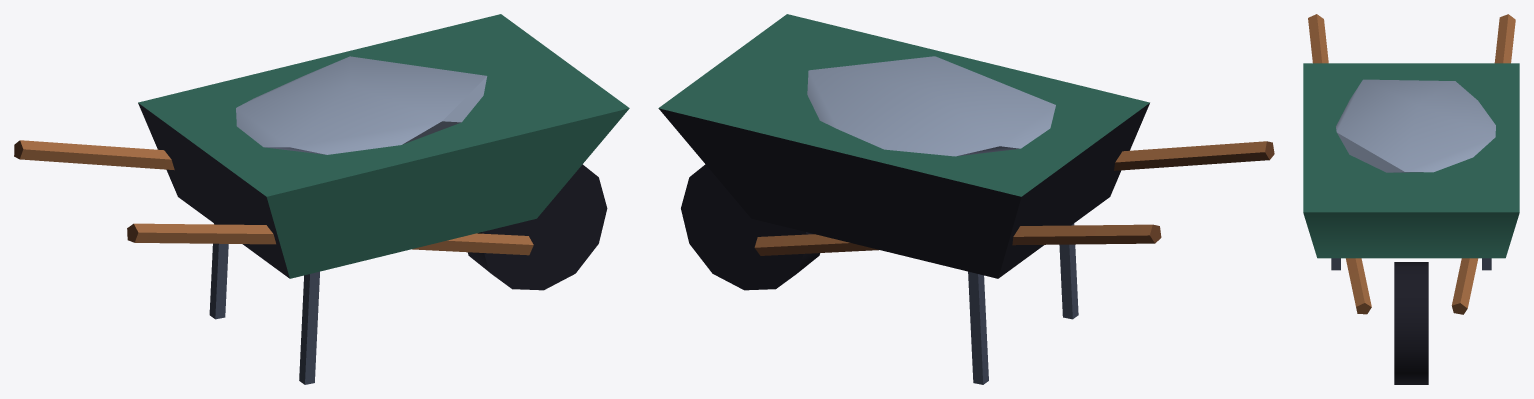
Rendered from Wheelbarrow.fbx.
The picture shows the model from 3 angles, left to right: view 1: azimuth 30°, elevation 25°; view 2: azimuth 150°, elevation 25°; view 3: azimuth 270°, elevation 25°; orthographic projection. The views are drawn at different scales.
Parts seen in each view (by area): view 1: Wheelbarrow; view 2: Wheelbarrow; view 3: Wheelbarrow.
Boxes of the visible parts, x1,y1,x2,y2 form: Wheelbarrow: [14, 14, 629, 384]; Wheelbarrow: [658, 14, 1274, 384]; Wheelbarrow: [1303, 14, 1519, 384].
Bounding box in the file's own units: 1.49 × 0.647 × 0.6325.
Materials: 1 (1 with a texture image).
